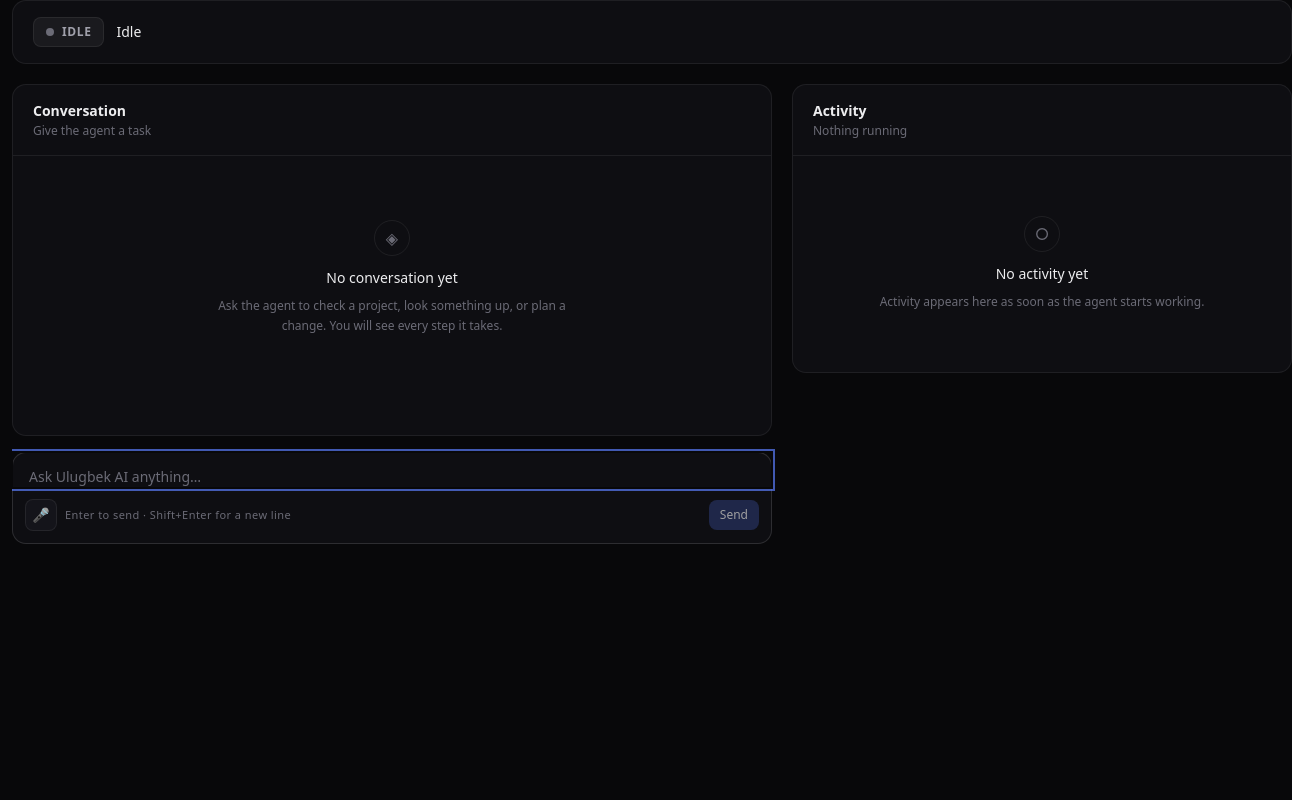
Test: the transcript › lands in the command box and is not sent
The image size is (1292, 800).
What coordinates should you click on to do the following:
click the button named "ovozli buyruq"
I would click on:
 (41, 515)
Its box is [25,499,57,531].
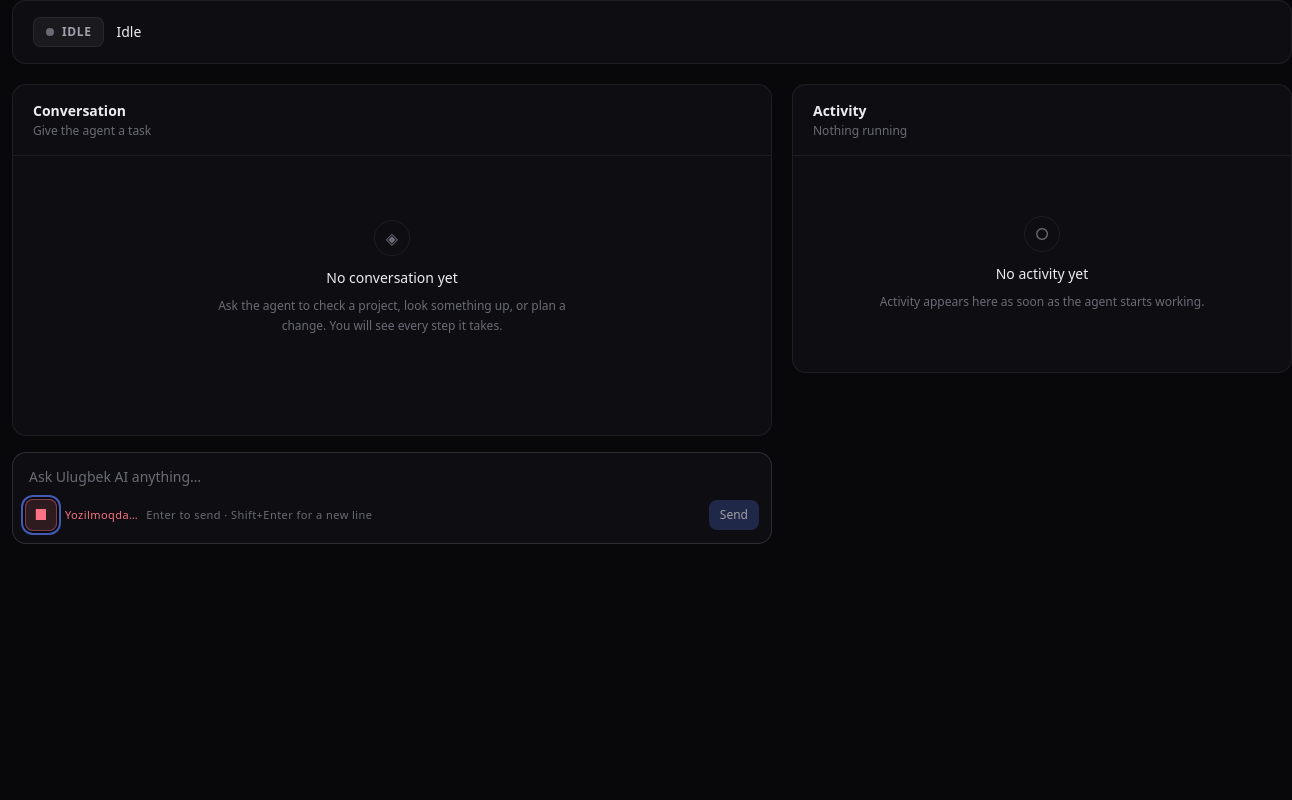
What coordinates should you click on to do the following:
click the button named "to'xtatish"
I would click on:
 (41, 515)
Its box is [25,499,57,531].
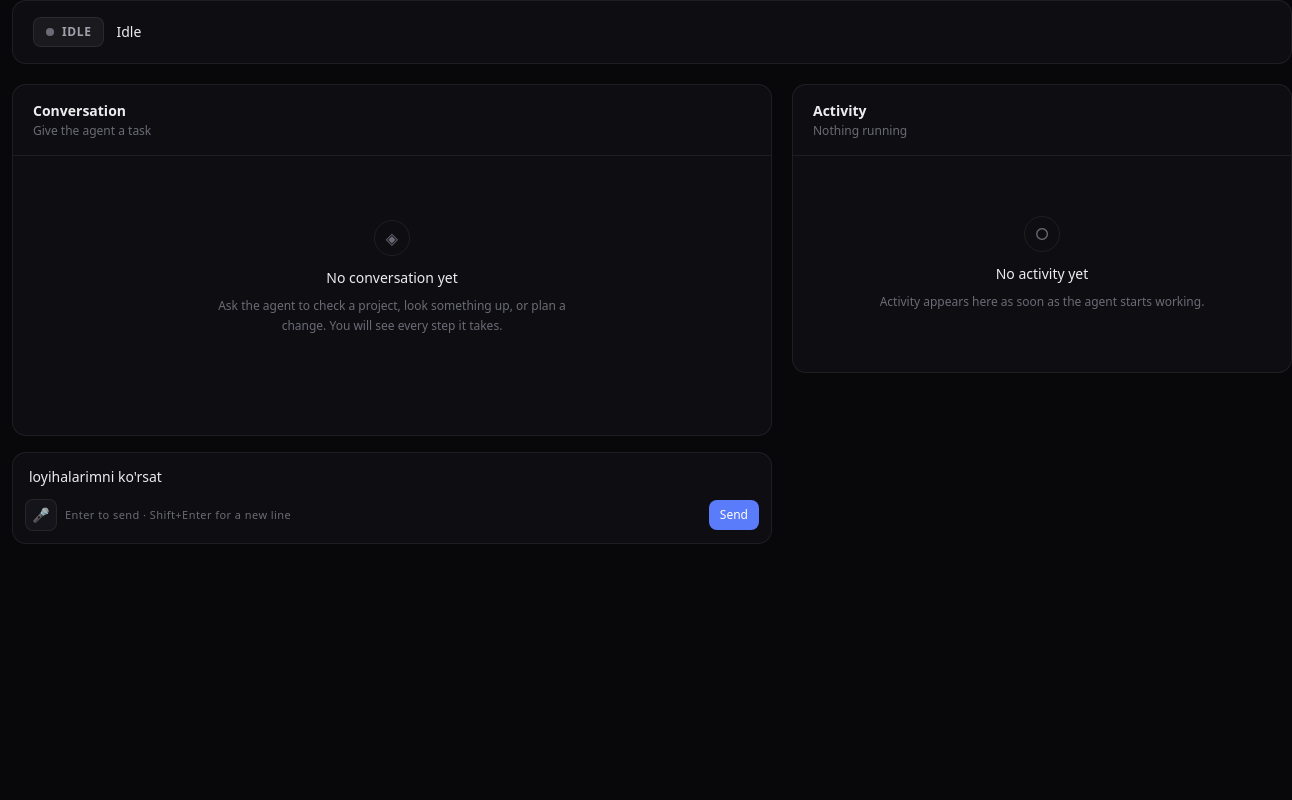
Expected: the text box named "Command for the agent" holds "loyihalarimni ko'rsat", [13,453,771,487]
